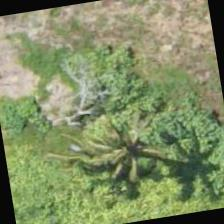Kelapa_Sawit: (76, 104, 180, 206)
